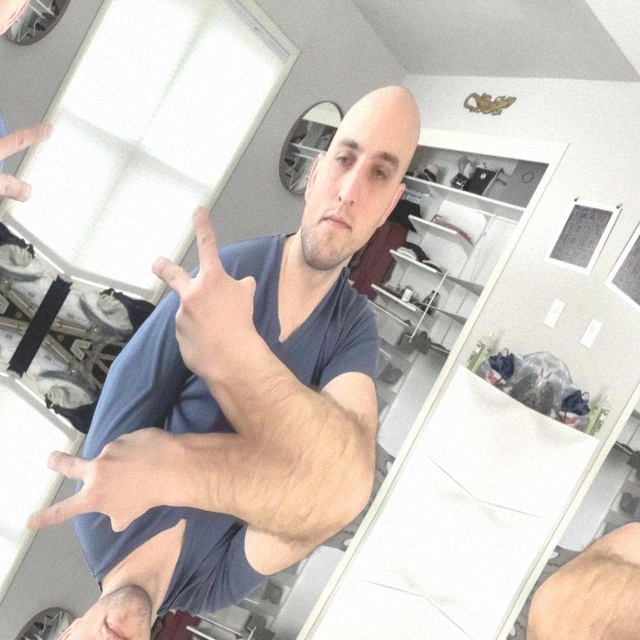Scissors: (0, 71, 69, 274)
